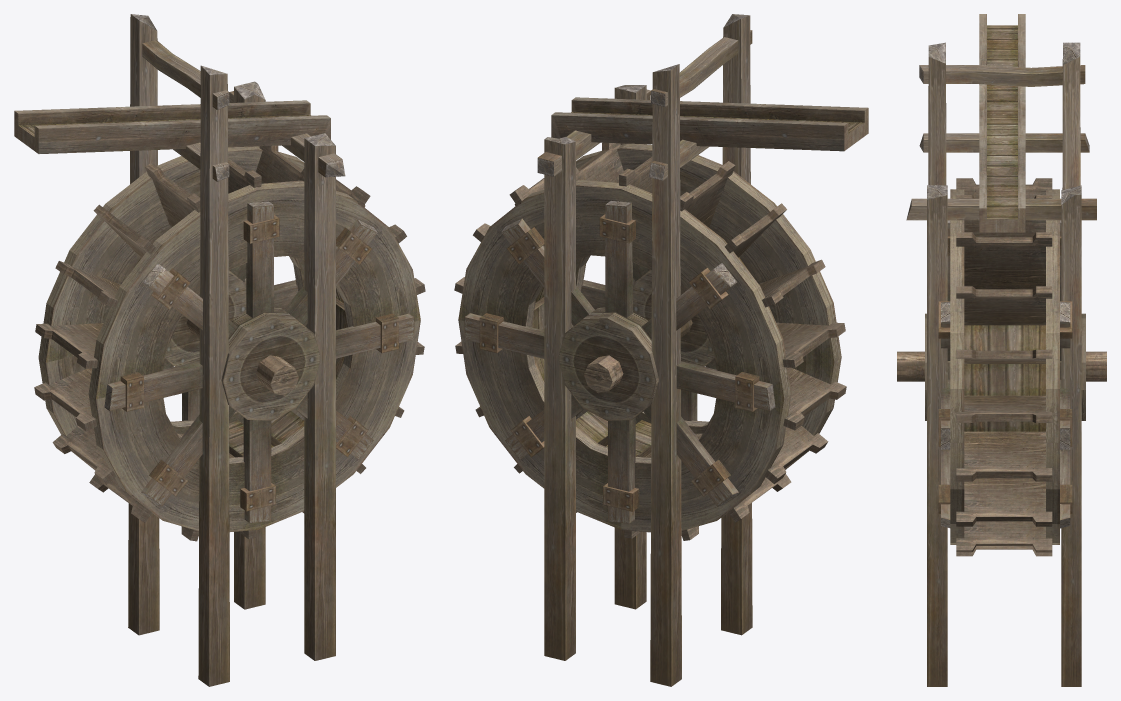
Rendered from bg_lut_zamount_waterwheel01_sm_msj.FBX.
The picture shows the model from 3 angles, left to right: view 1: azimuth 30°, elevation 25°; view 2: azimuth 150°, elevation 25°; view 3: azimuth 270°, elevation 25°; orthographic projection. The views are drawn at different scales.
Visible parts, largest first — view 1: bg_lut_zamount_waterwheel01_sm_msj; view 2: bg_lut_zamount_waterwheel01_sm_msj; view 3: bg_lut_zamount_waterwheel01_sm_msj.
Boxes of the visible parts, <box> form: bg_lut_zamount_waterwheel01_sm_msj: <box>14,14,425,686</box>; bg_lut_zamount_waterwheel01_sm_msj: <box>454,14,868,686</box>; bg_lut_zamount_waterwheel01_sm_msj: <box>897,14,1106,686</box>.
Bounding box in the file's own units: 347 × 543 × 176.
